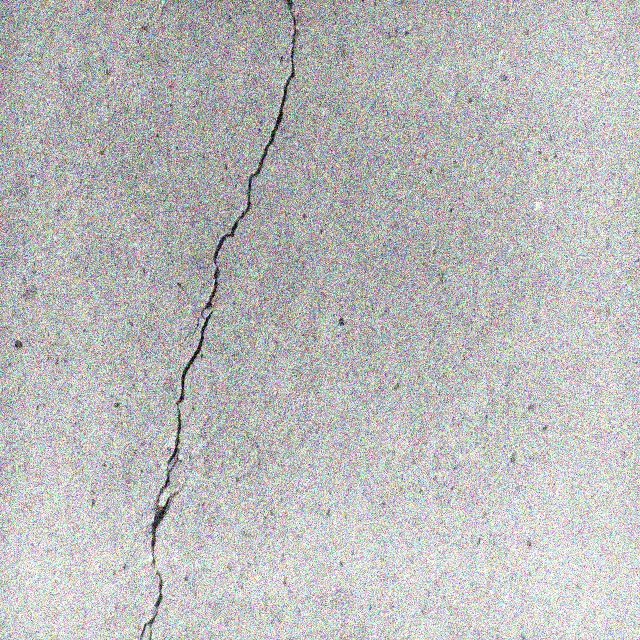SurfaceCrack: (110, 0, 327, 639)
